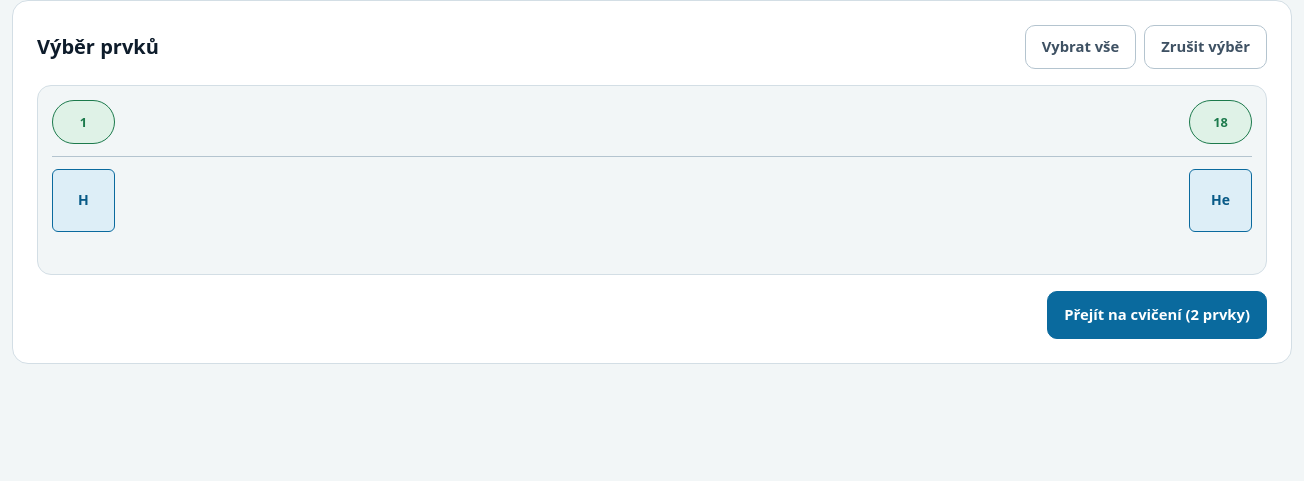
PeriodicTablePractice › shows a local persistence failure without stopping the exercise
Click the button "Přejít na cvičení (2 prvky)". click: (1157, 315)
box: [1047,291,1267,339]
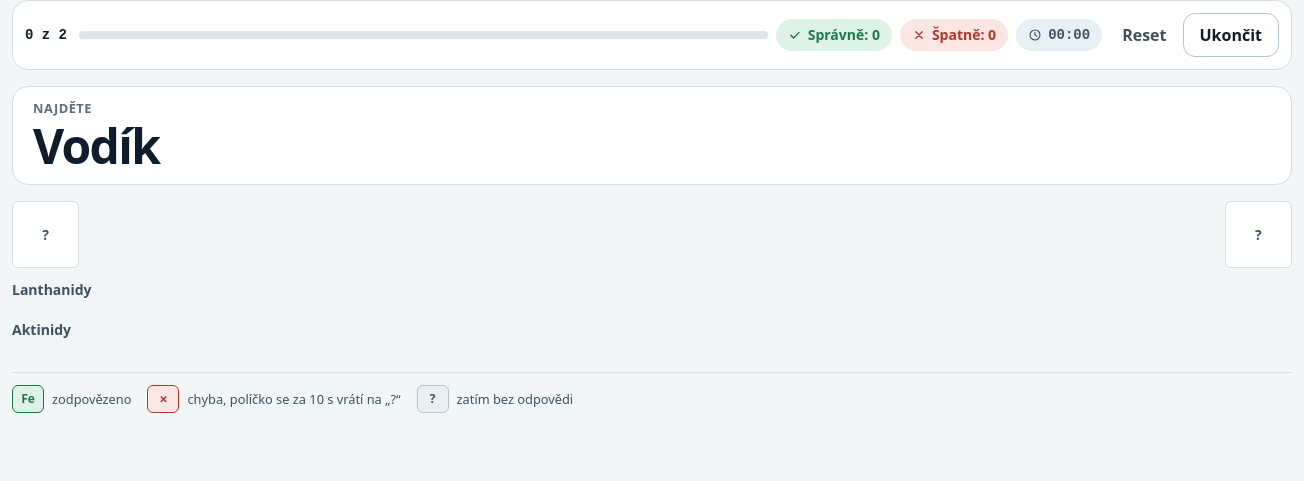
Click the button named "Perioda 1, skupina 1". click: (46, 235)
box: [12,201,79,268]
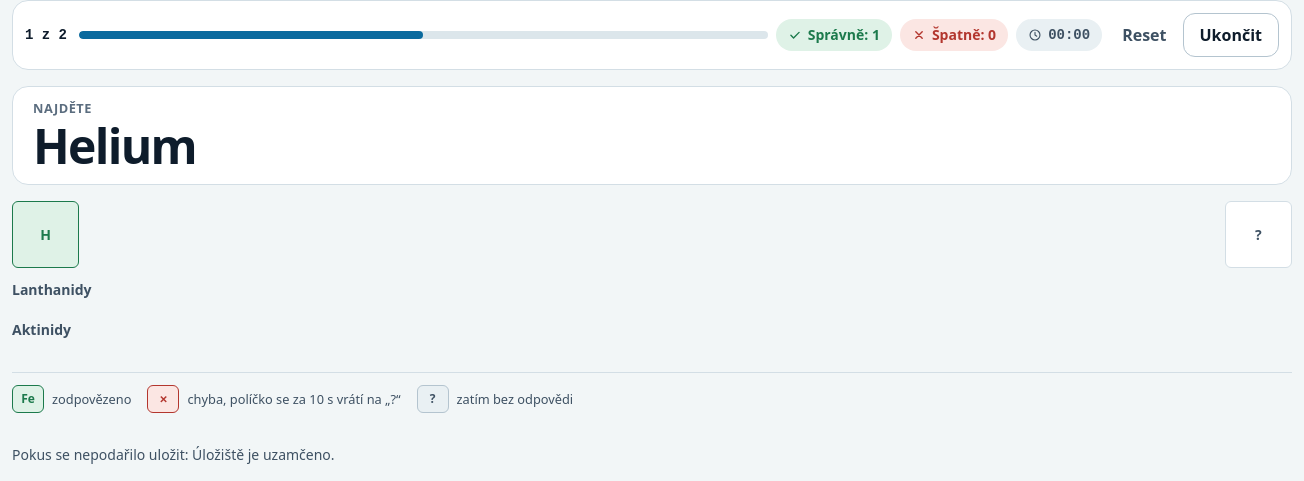
Now the text "Pokus se nepodařilo uložit: Úložiště je uzamčeno." is shown, box [12,445,335,464]
